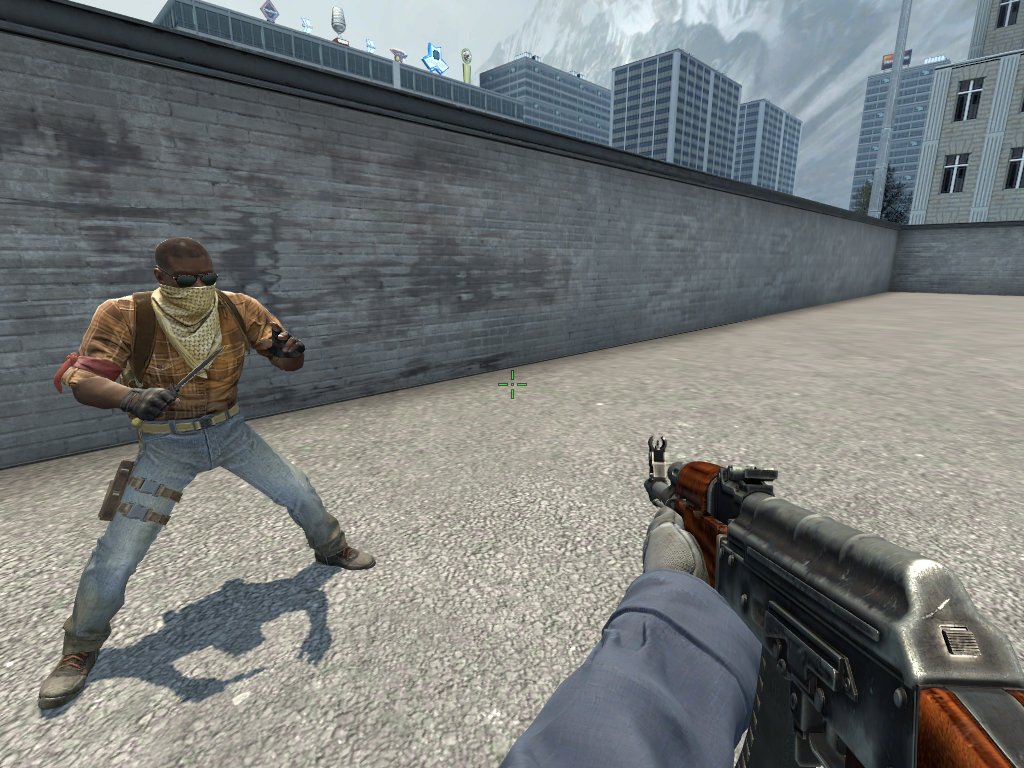tr head: (152, 235, 219, 329)
